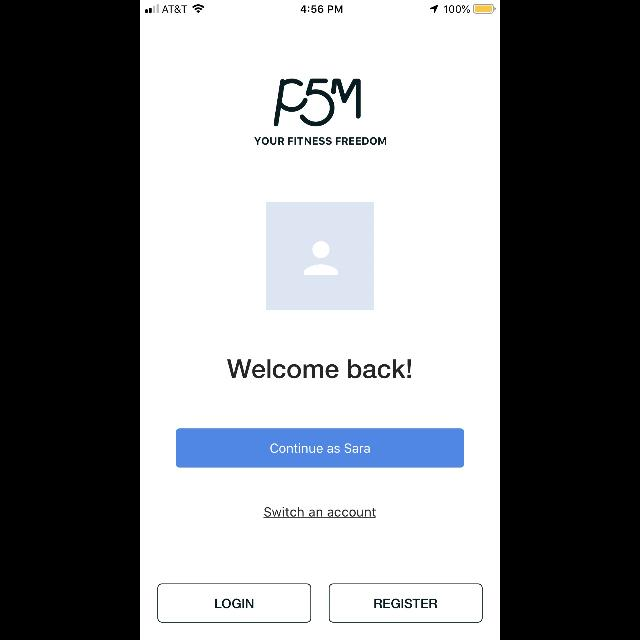icon: (266, 202, 374, 310)
image: (274, 79, 360, 127)
text: (227, 359, 411, 379), (264, 506, 376, 518), (254, 137, 386, 145)
textbutton: (176, 428, 464, 468), (157, 584, 311, 622), (329, 584, 483, 622)
uppertaskbar: (140, 0, 500, 14)
